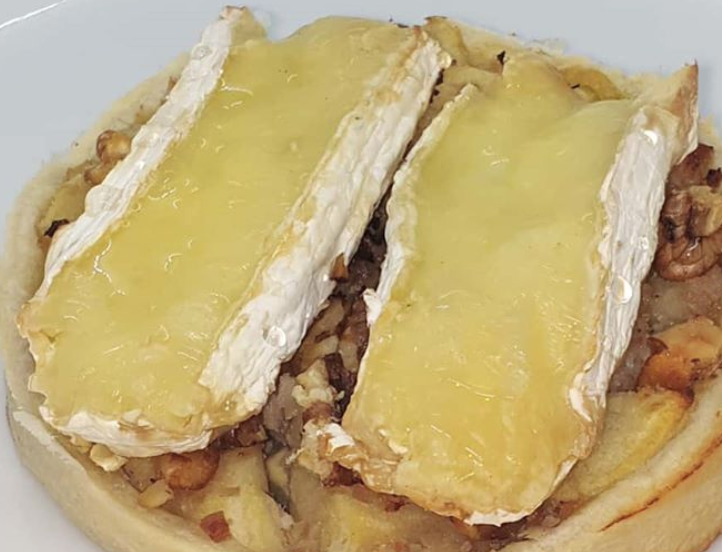camembert: (14, 1, 455, 461), (334, 52, 700, 530)
